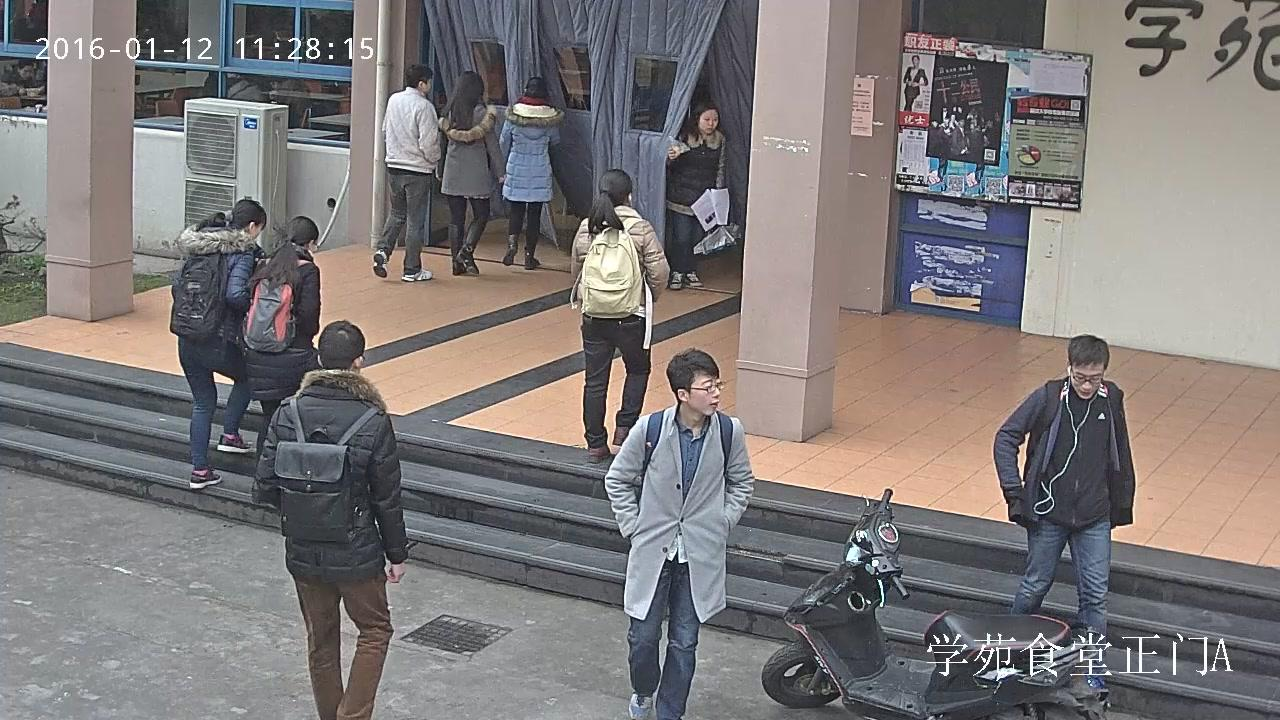person: (254, 319, 409, 720), (603, 347, 756, 720), (993, 333, 1136, 636), (569, 168, 671, 462), (169, 199, 266, 489), (242, 215, 324, 472), (372, 63, 442, 281), (667, 98, 743, 290), (437, 70, 503, 275), (499, 75, 568, 269), (0, 59, 44, 97), (226, 72, 272, 104), (902, 55, 927, 111)
